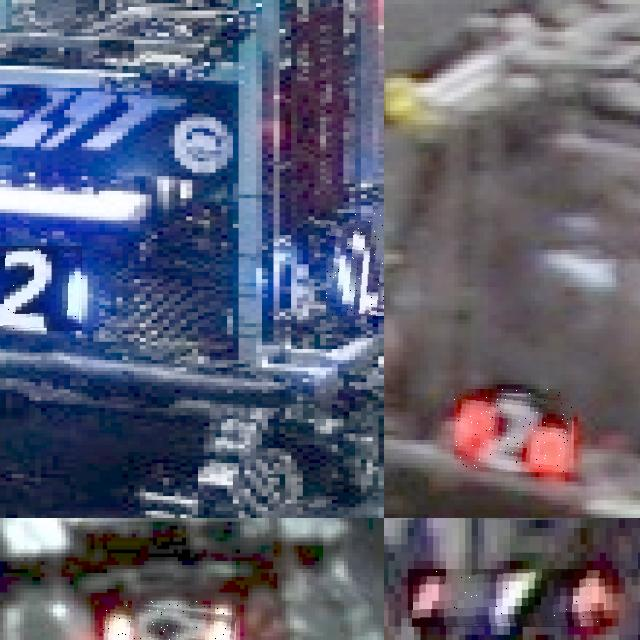B2: (0, 246, 81, 330), (326, 213, 384, 316)
R1: (408, 569, 606, 627)
R2: (454, 389, 574, 472)
Rs: (103, 600, 236, 640)
